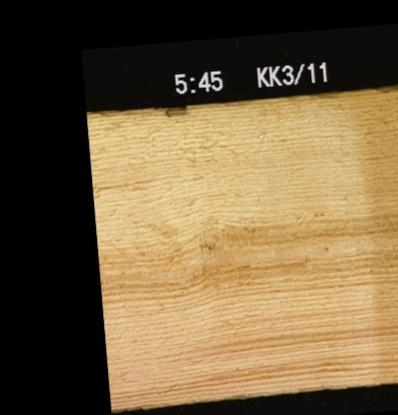wave: (86, 105, 189, 114)
